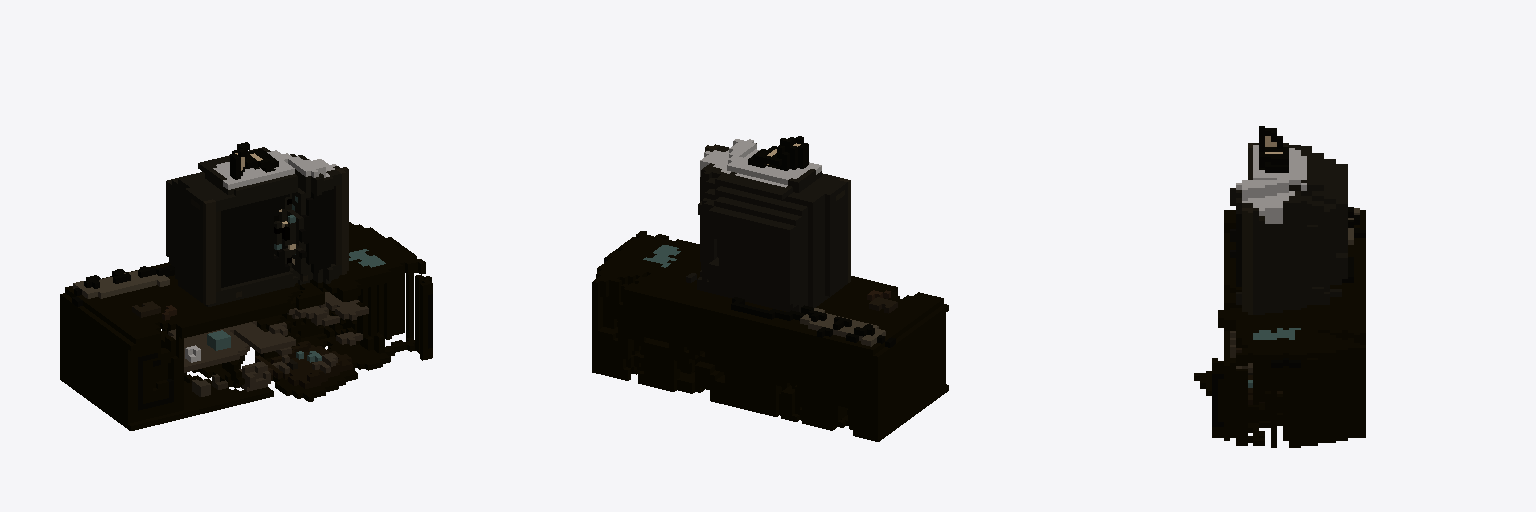
3 renders of one model, left to right at view 1: azimuth 30°, elevation 25°; view 2: azimuth 150°, elevation 25°; view 3: azimuth 270°, elevation 25°, orthographic.
Parts seen in each view (by area): view 1: object 1; view 2: object 1; view 3: object 1.
Part boxes in pixels (left/top/right/bottom): object 1: left=60, top=142, right=432, bottom=430; object 1: left=592, top=136, right=948, bottom=441; object 1: left=1194, top=126, right=1365, bottom=447.
Size of the model in its own units: 6 by 4.4 by 2.9.
1 materials, 1 textured.